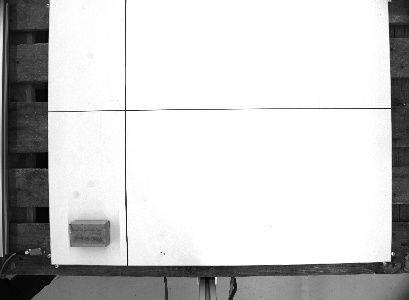b1: (66, 218, 113, 249)
